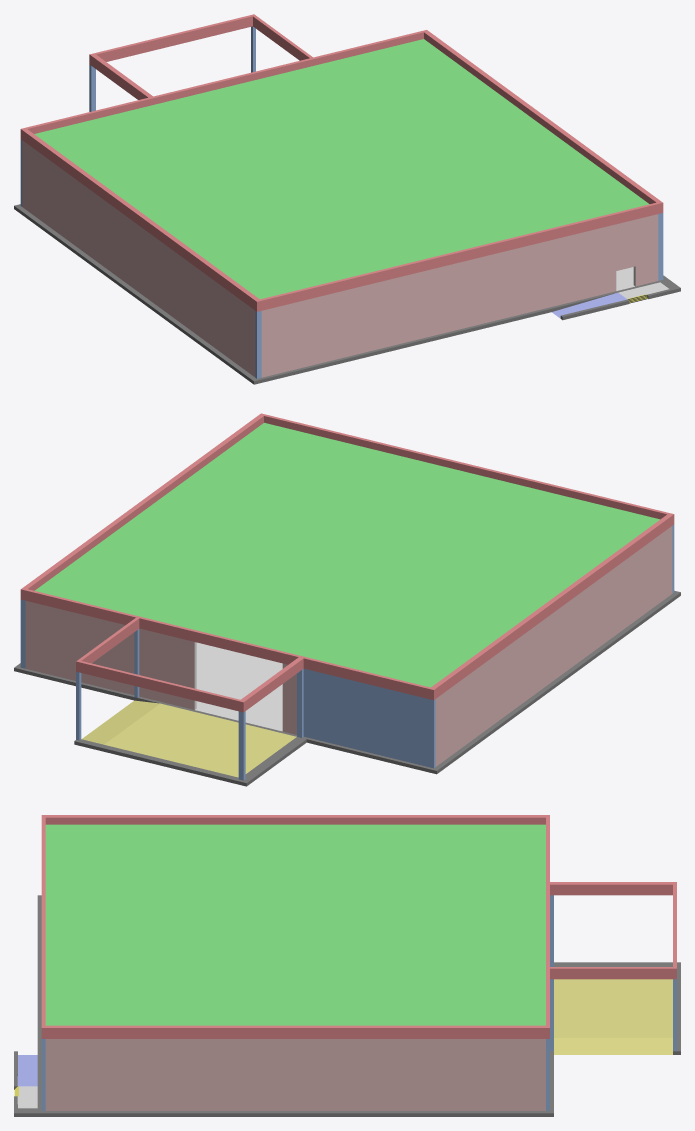
Rendered from TestMap.fbx.
3 renders of one model, top to bottom at view 1: azimuth 30°, elevation 25°; view 2: azimuth 150°, elevation 25°; view 3: azimuth 270°, elevation 25°, orthographic. The views are drawn at different scales.
Visible parts, largest first — view 1: WarehouseTest; view 2: WarehouseTest; view 3: WarehouseTest.
Boxes of the visible parts, <box> form: WarehouseTest: <box>14,14,680,384</box>; WarehouseTest: <box>14,413,680,786</box>; WarehouseTest: <box>14,815,680,1116</box>.
Size of the model in its own units: 13000 by 2400 by 16800.
